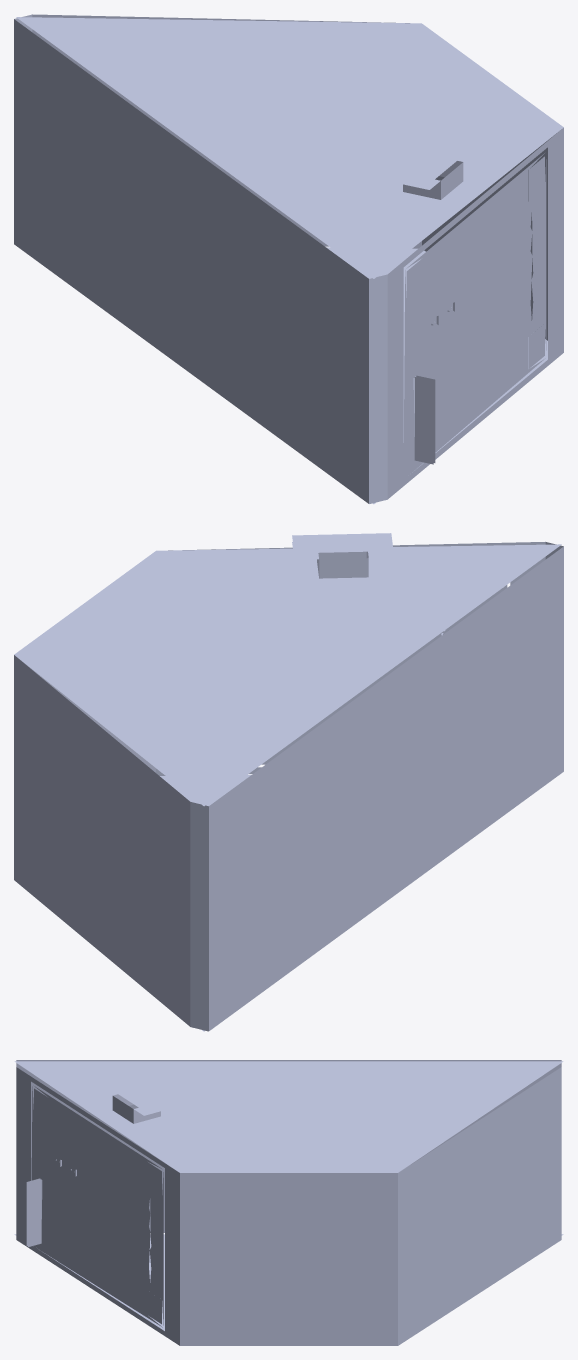
The model's file is maintenance_panel_collision.glb.
The picture shows the model from 3 angles, top to bottom: view 1: azimuth 30°, elevation 25°; view 2: azimuth 150°, elevation 25°; view 3: azimuth 270°, elevation 25°; orthographic projection. The views are drawn at different scales.
Visible parts, largest first — view 1: maintenance_panel_collision; view 2: maintenance_panel_collision; view 3: maintenance_panel_collision.
Part boxes in pixels (left/top/right/bottom): maintenance_panel_collision: left=14, top=14, right=563, bottom=504; maintenance_panel_collision: left=14, top=533, right=563, bottom=1031; maintenance_panel_collision: left=14, top=1060, right=563, bottom=1345.
Size of the model in its own units: 0.49 by 0.39 by 1.01.
